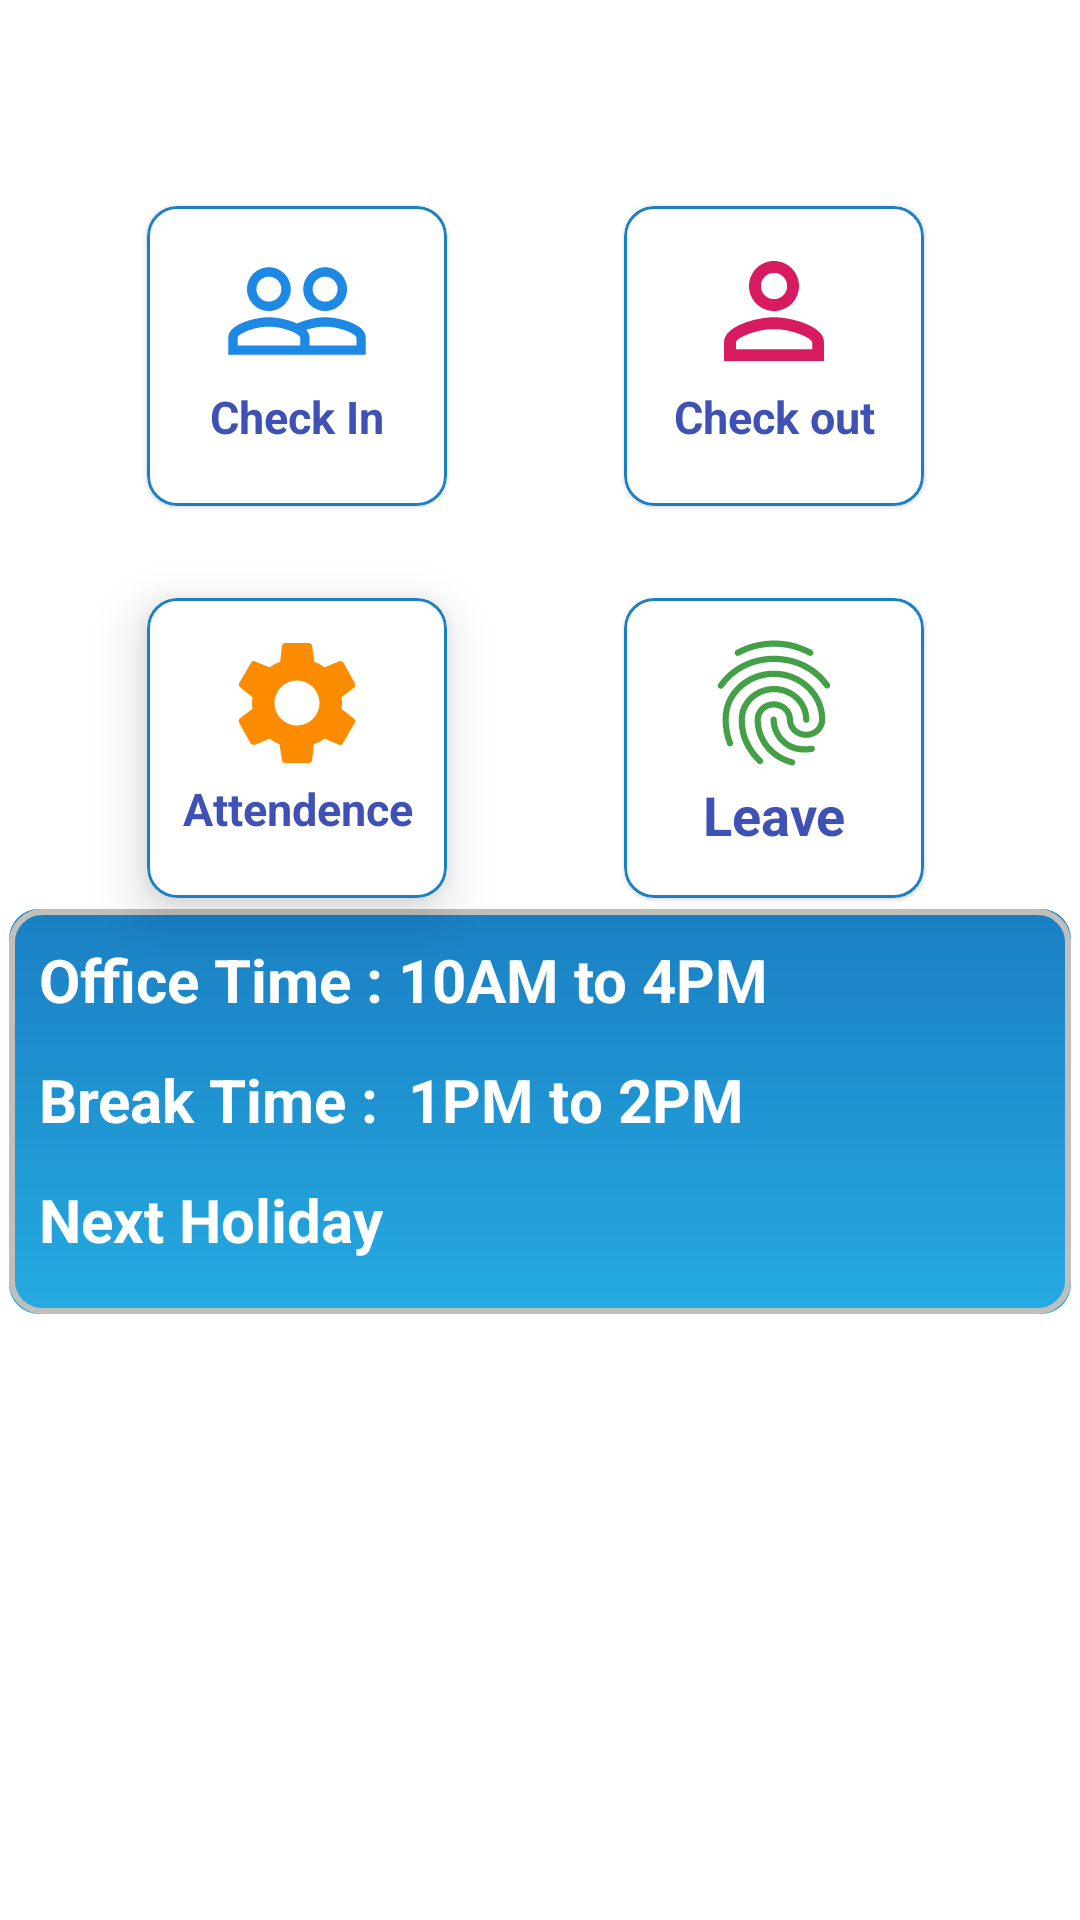

Point at icon controls on the screen. Image size 1080w x 1920h, points as (x,y).
fingerprint: (774,703)
people: (297,311)
person: (774,311)
settings: (297,703)
